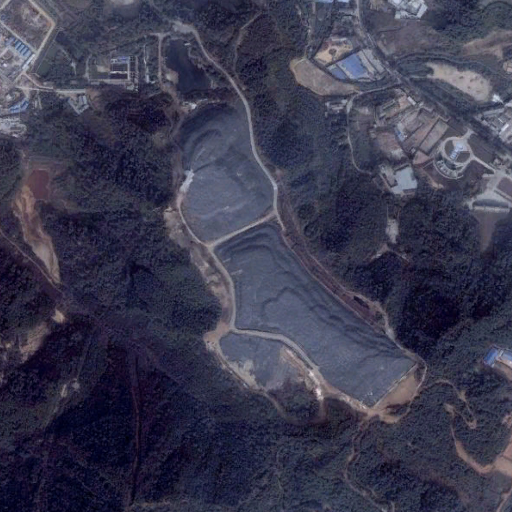lf: (182, 111, 415, 408)
